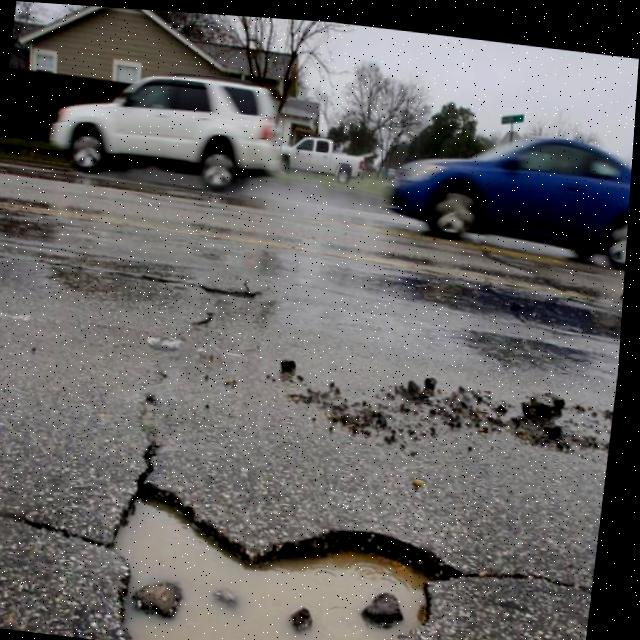Pothole: (82, 449, 481, 640), (497, 374, 594, 462), (197, 265, 291, 301)
